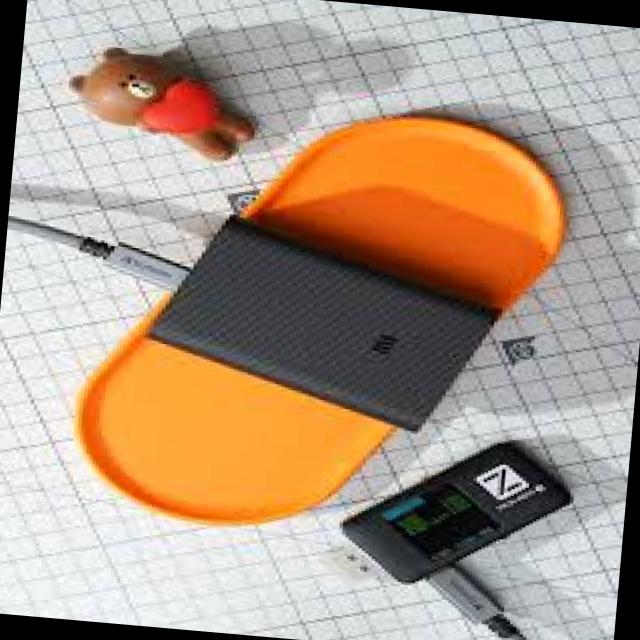portable-charger: (138, 209, 504, 441)
